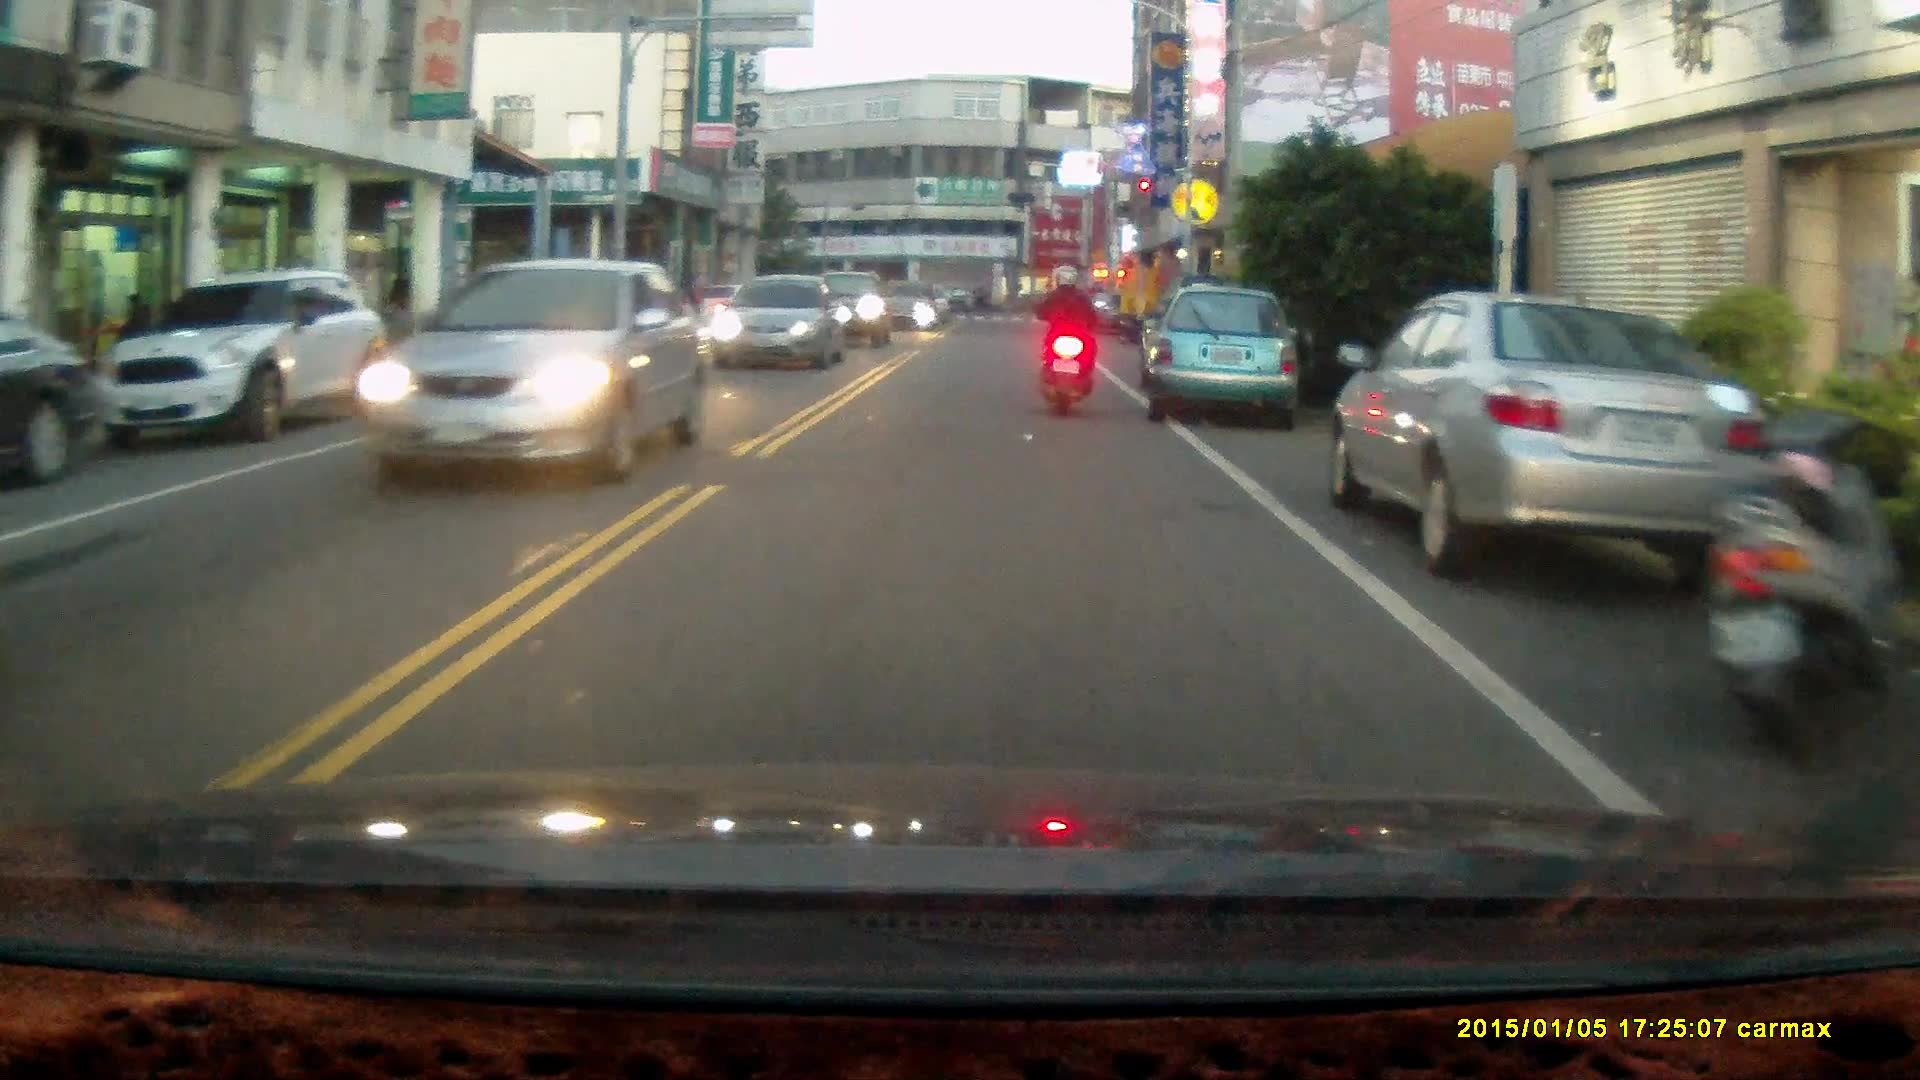pedestrian: (114, 289, 151, 361)
rider: (1034, 259, 1107, 418)
vehicle: (1327, 293, 1809, 577), (351, 259, 714, 479), (81, 264, 392, 455), (1146, 282, 1308, 434), (713, 278, 842, 377)
